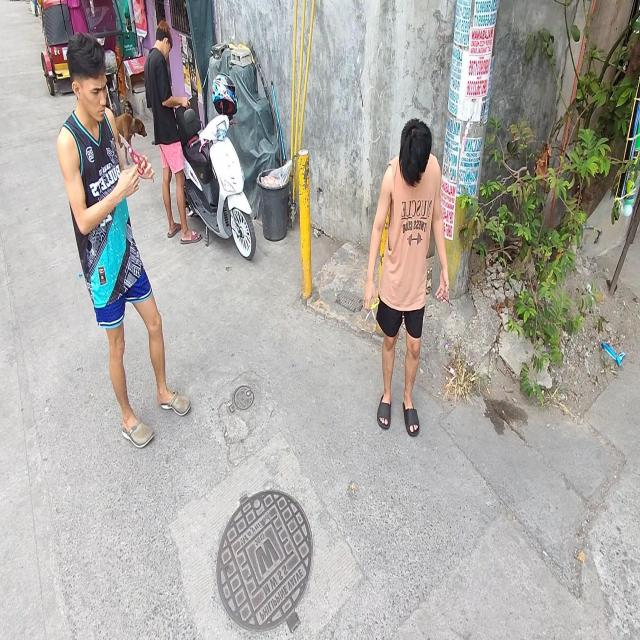scissor: (118, 134, 146, 174), (439, 284, 454, 313), (365, 298, 379, 322)
